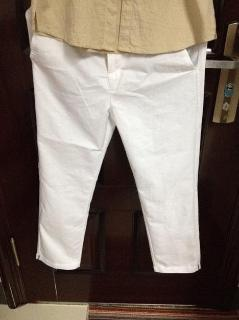short sleeve outwear: (31, 0, 218, 54)
trousers: (25, 2, 209, 273)
